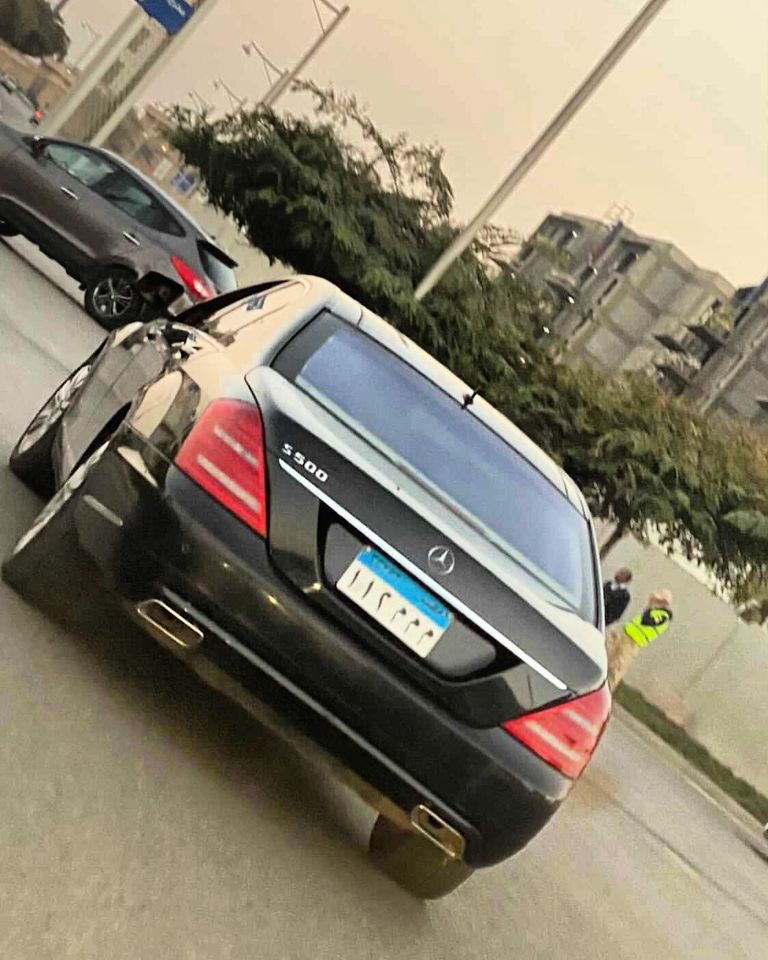carpl: (342, 562, 444, 645)
